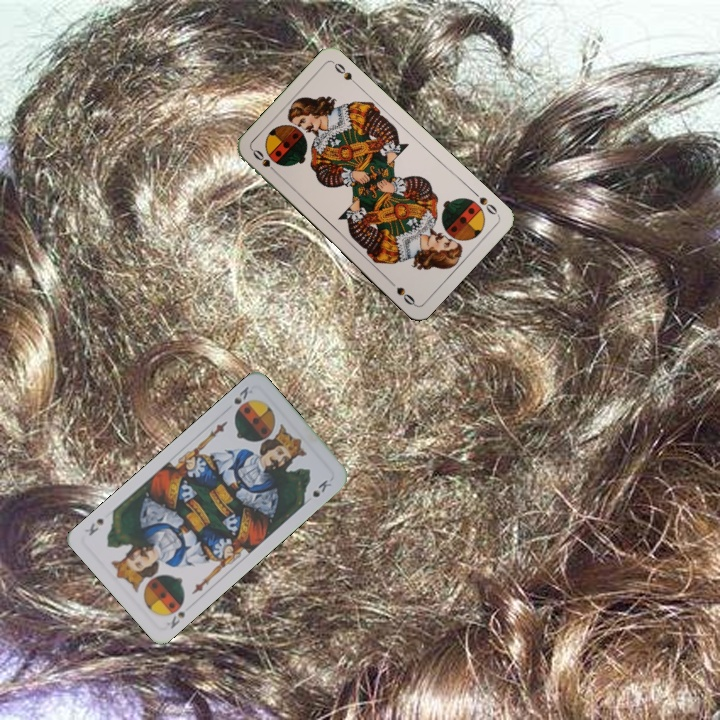SK: (163, 607, 189, 632), (230, 382, 255, 407)
SO: (248, 145, 281, 178), (468, 187, 501, 218)
